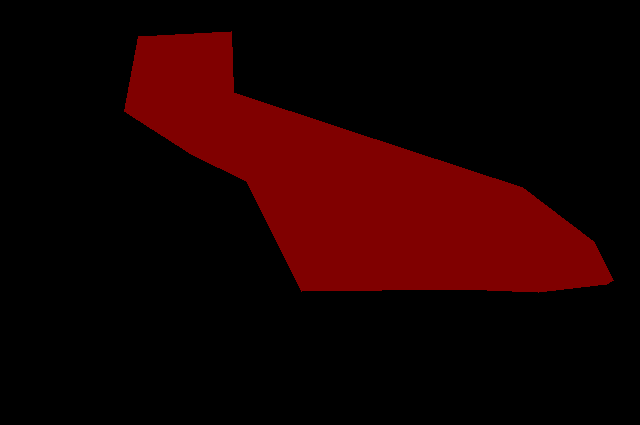fire: (124, 31, 613, 292)
